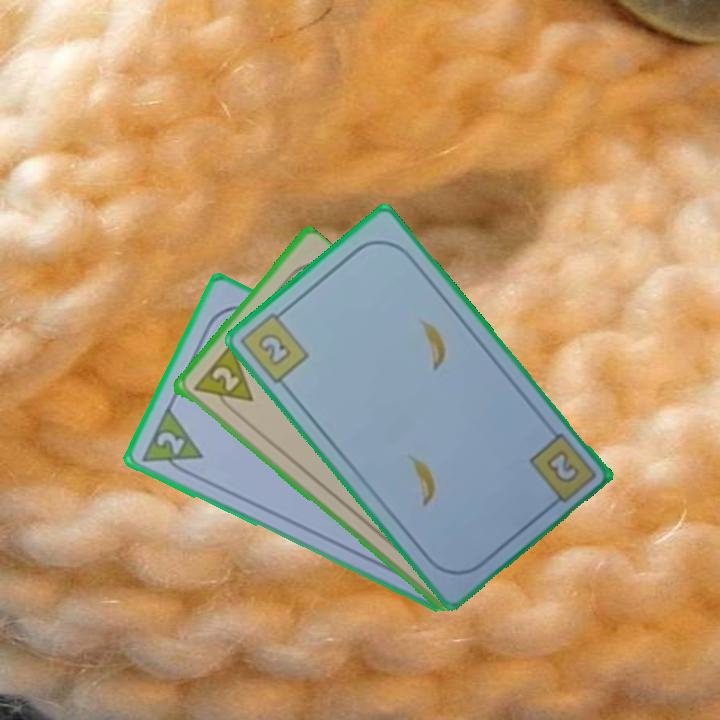2b: (237, 303, 312, 387), (541, 446, 582, 486)
2p: (189, 342, 256, 420), (137, 404, 205, 480)
